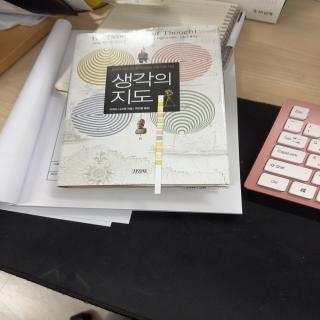mark: (156, 148, 162, 152), (156, 160, 161, 164), (156, 154, 161, 158), (157, 142, 162, 146), (157, 136, 162, 140), (157, 130, 162, 134), (158, 124, 162, 129), (158, 113, 163, 117), (158, 119, 163, 122), (158, 108, 163, 111), (158, 102, 163, 105), (158, 97, 163, 100)
